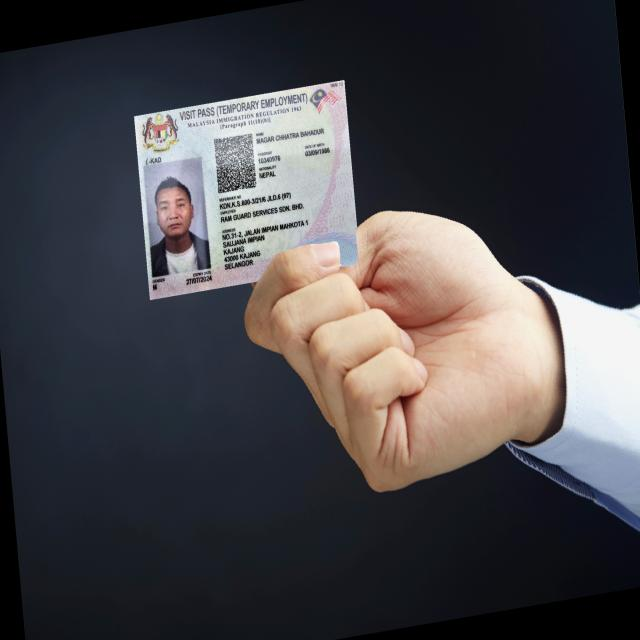ikad-temp: (133, 78, 358, 300)
